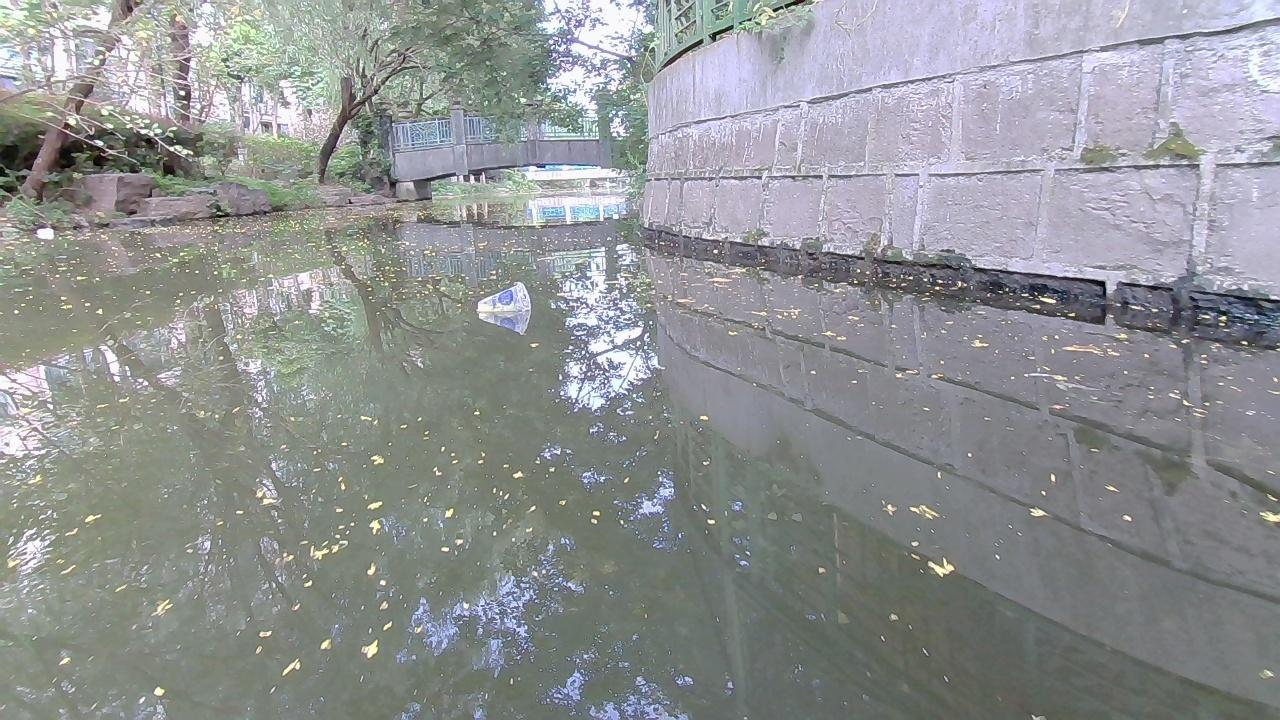bottle: (468, 284, 530, 314), (33, 222, 57, 237)
